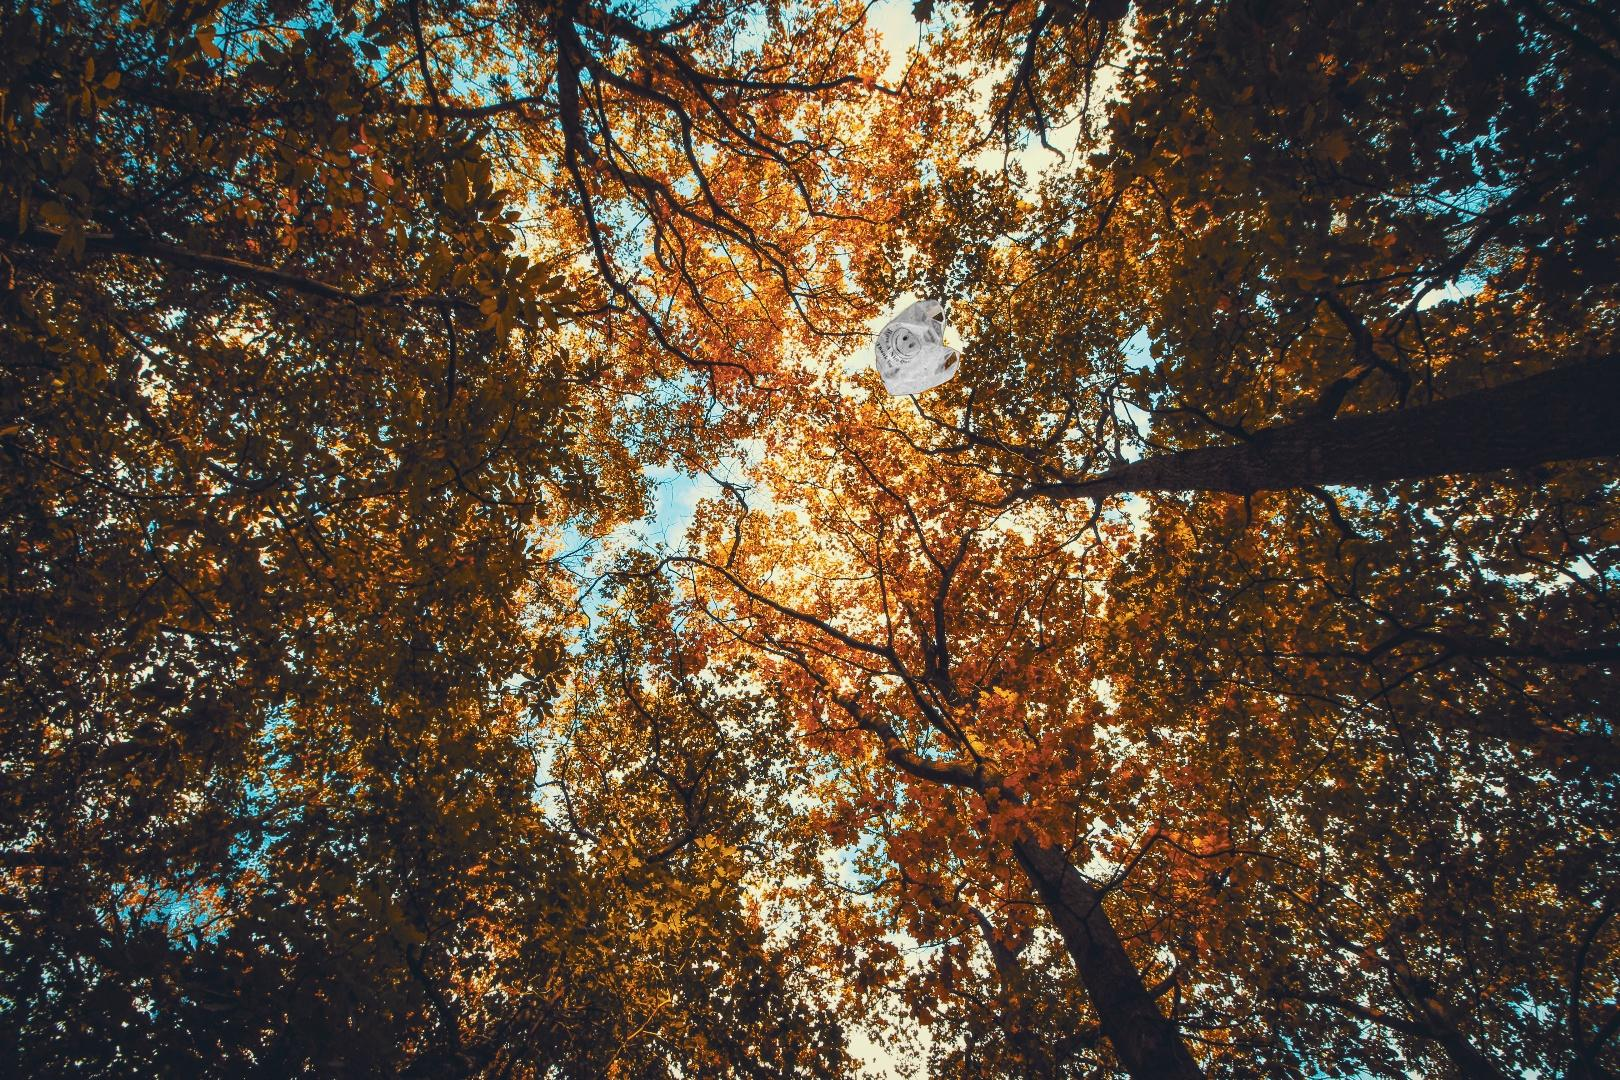plastic-bag: (871, 297, 963, 397)
